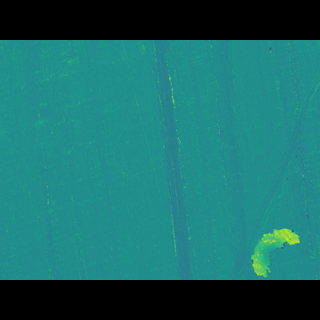Loch: (224, 94, 320, 250), (241, 211, 302, 249)
